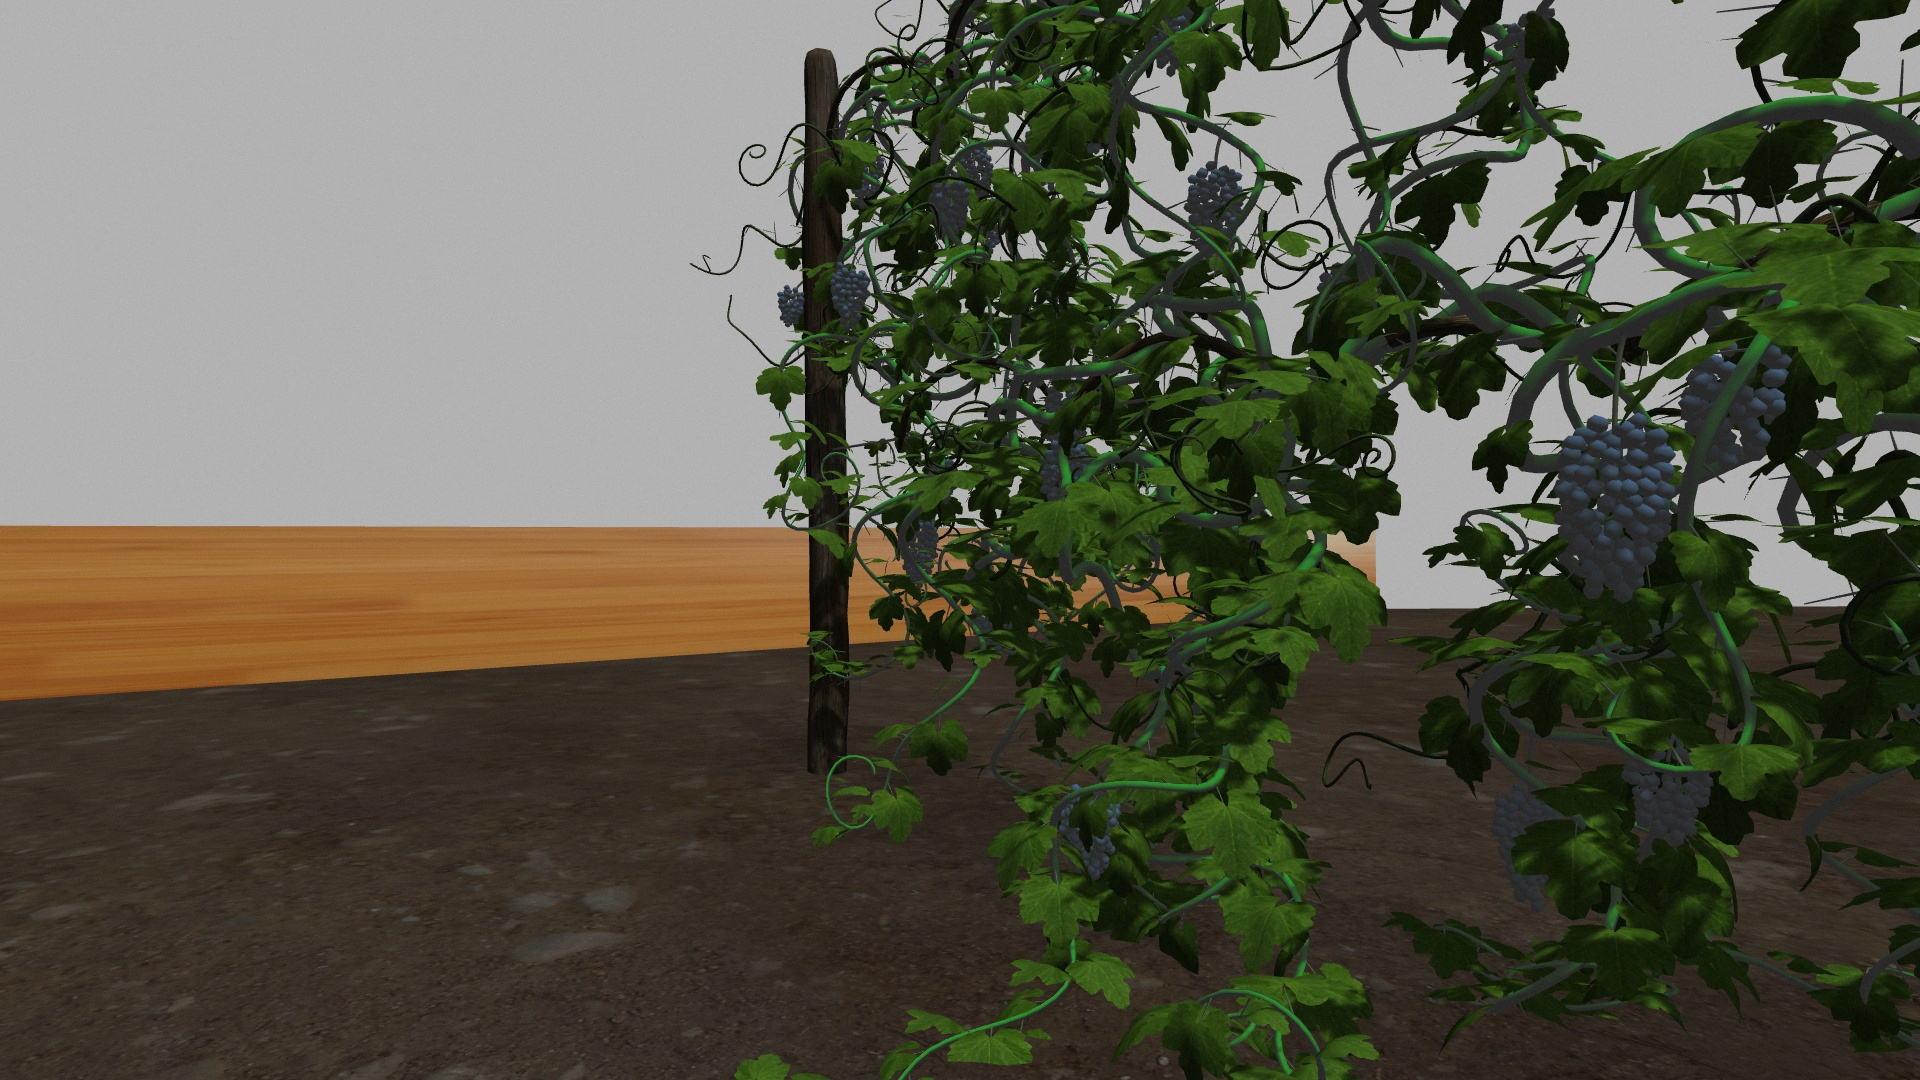grape: (1553, 415, 1681, 605), (1685, 342, 1791, 477), (1490, 789, 1569, 920), (1621, 750, 1712, 853), (1060, 790, 1120, 880), (1185, 162, 1245, 245), (829, 262, 873, 328), (899, 521, 942, 584), (927, 181, 969, 237), (959, 148, 996, 196), (775, 284, 806, 327)
